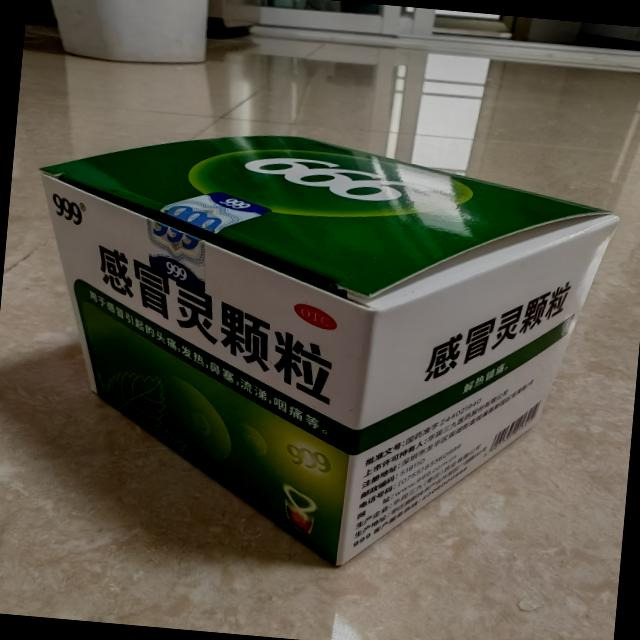box: (0, 104, 630, 597)
